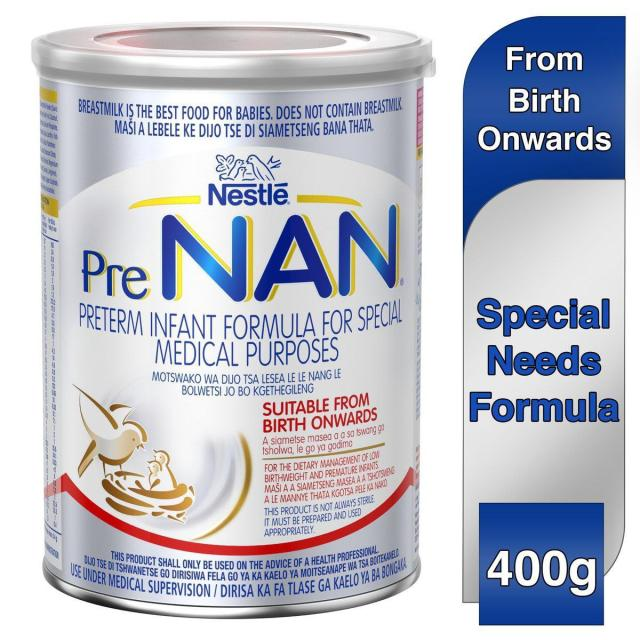formula-milk: (50, 71, 396, 585), (471, 57, 633, 617)
